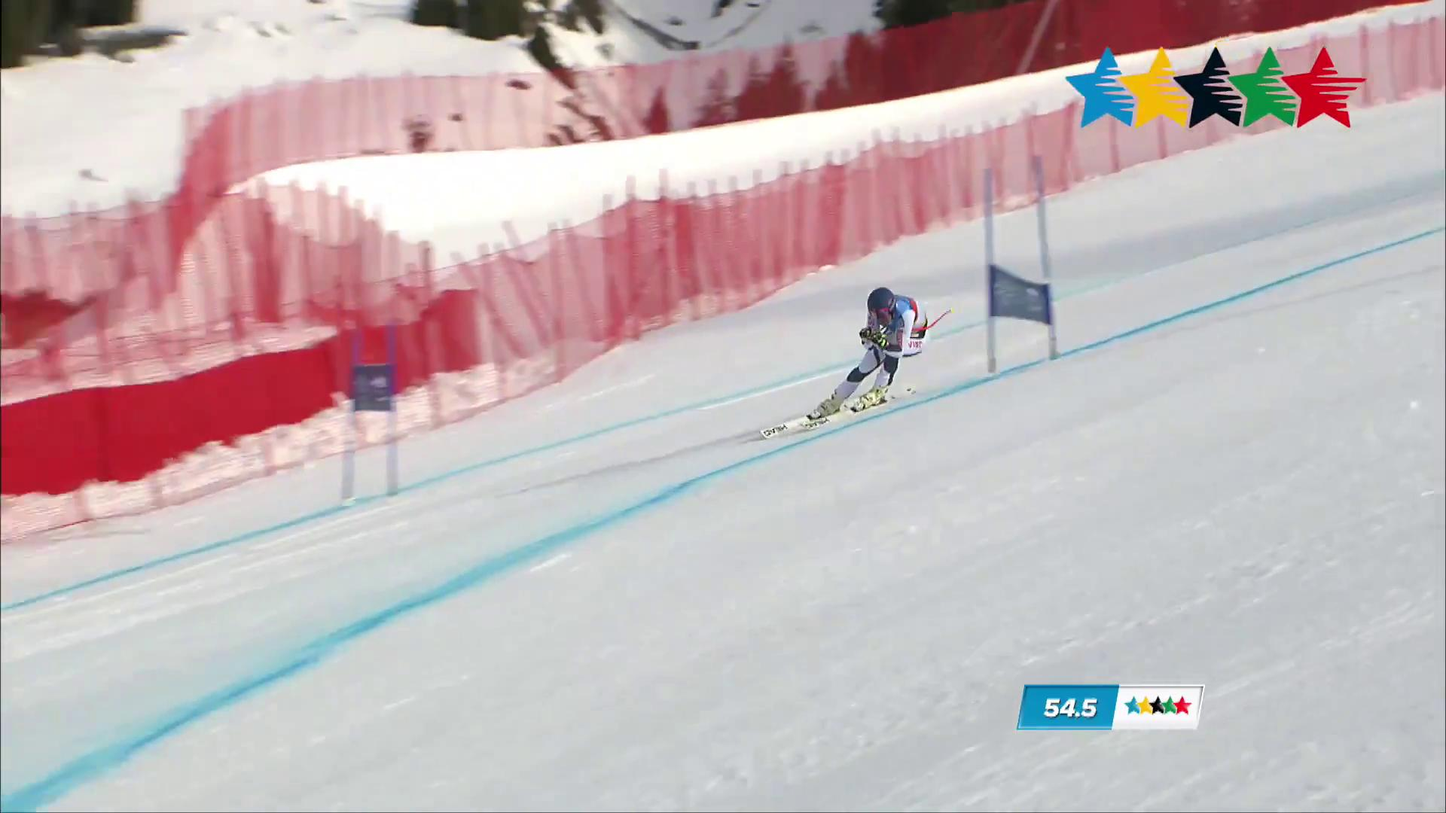gate: (984, 154, 1060, 374)
